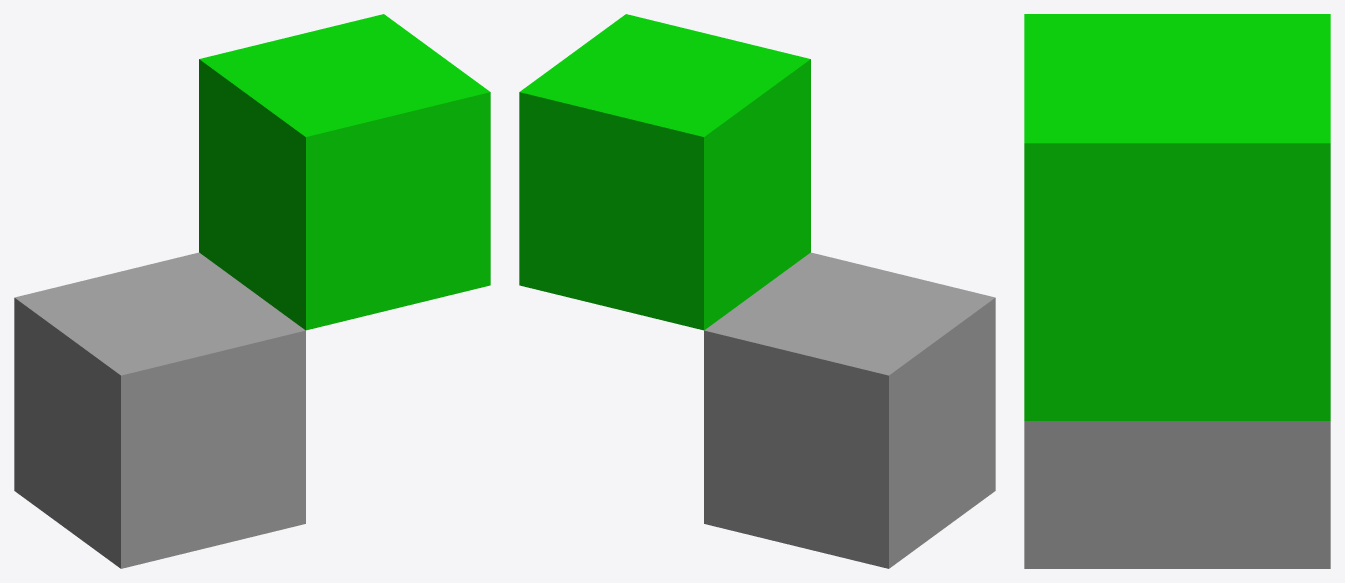
File: synthetic_unicode_error_identity_6100_binary.fbx
The picture shows the model from 3 angles, left to right: view 1: azimuth 30°, elevation 25°; view 2: azimuth 150°, elevation 25°; view 3: azimuth 270°, elevation 25°; orthographic projection. The views are drawn at different scales.
Visible parts, largest first — view 1: Parent, object 2; view 2: Parent, object 2; view 3: object 2, Parent.
Boxes of the visible parts, bbox=[...] form: Parent: bbox=[14, 252, 305, 568]; object 2: bbox=[199, 14, 490, 330]; Parent: bbox=[704, 252, 995, 568]; object 2: bbox=[519, 14, 810, 330]; object 2: bbox=[1024, 14, 1330, 420]; Parent: bbox=[1024, 421, 1330, 568].
Size of the model in its own units: 0.02 by 0.02 by 0.01.
